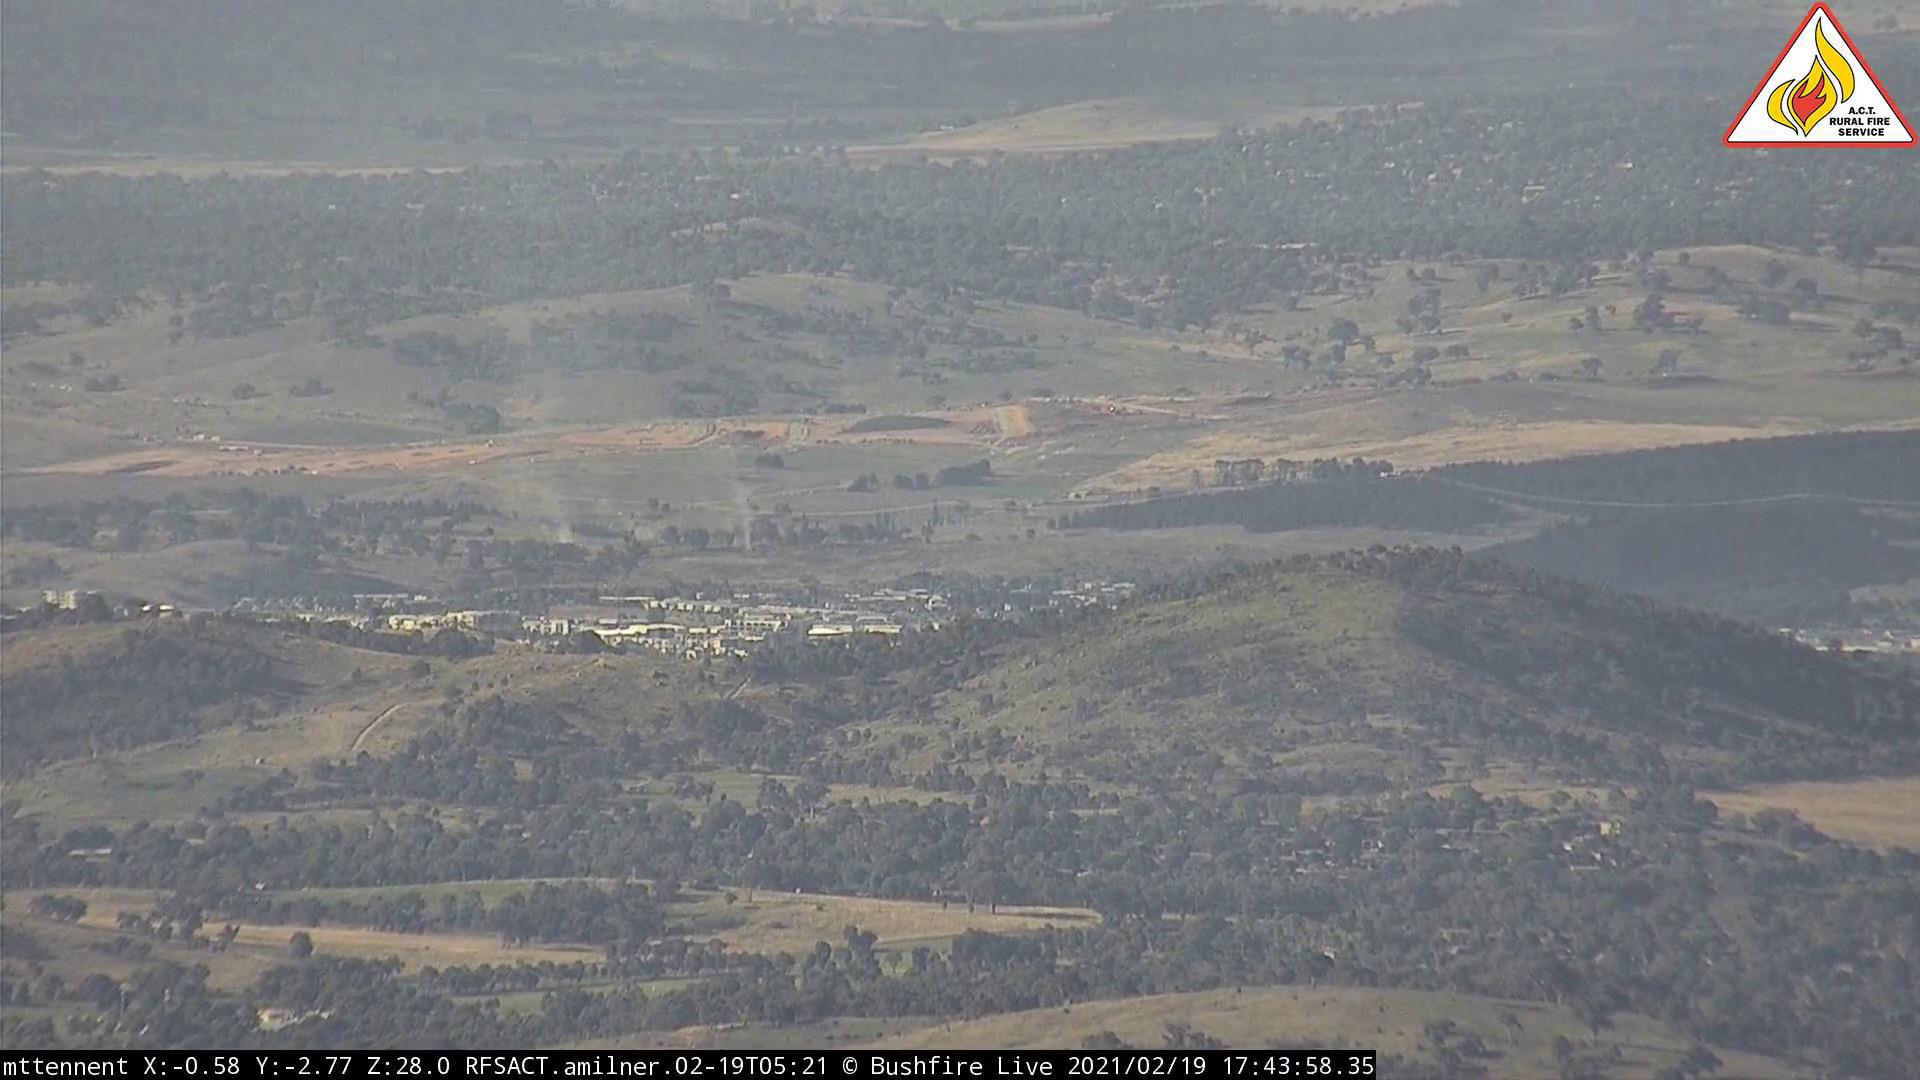Smoke: (709, 455, 774, 553), (529, 483, 592, 549)
